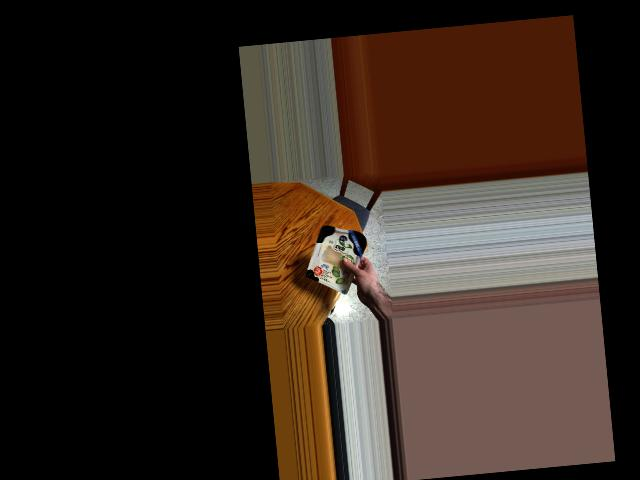cheese: (305, 221, 374, 290)
